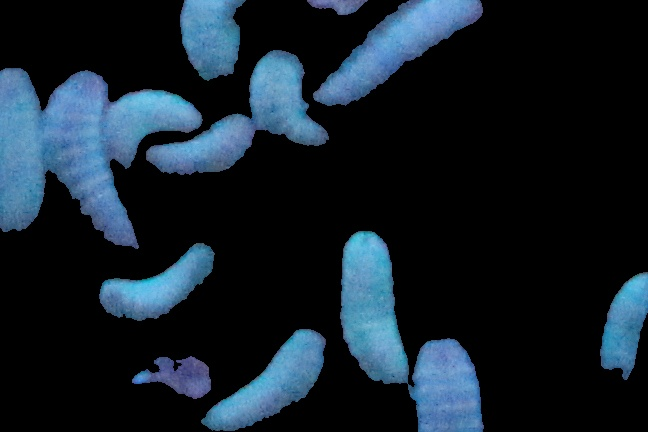larvae: (315, 1, 482, 106), (44, 71, 137, 244), (202, 329, 325, 430), (338, 232, 407, 387), (101, 242, 214, 320), (104, 87, 204, 167), (249, 50, 329, 149), (407, 334, 485, 432), (1, 65, 46, 234), (143, 115, 253, 175), (596, 271, 648, 383), (179, 1, 247, 81)
